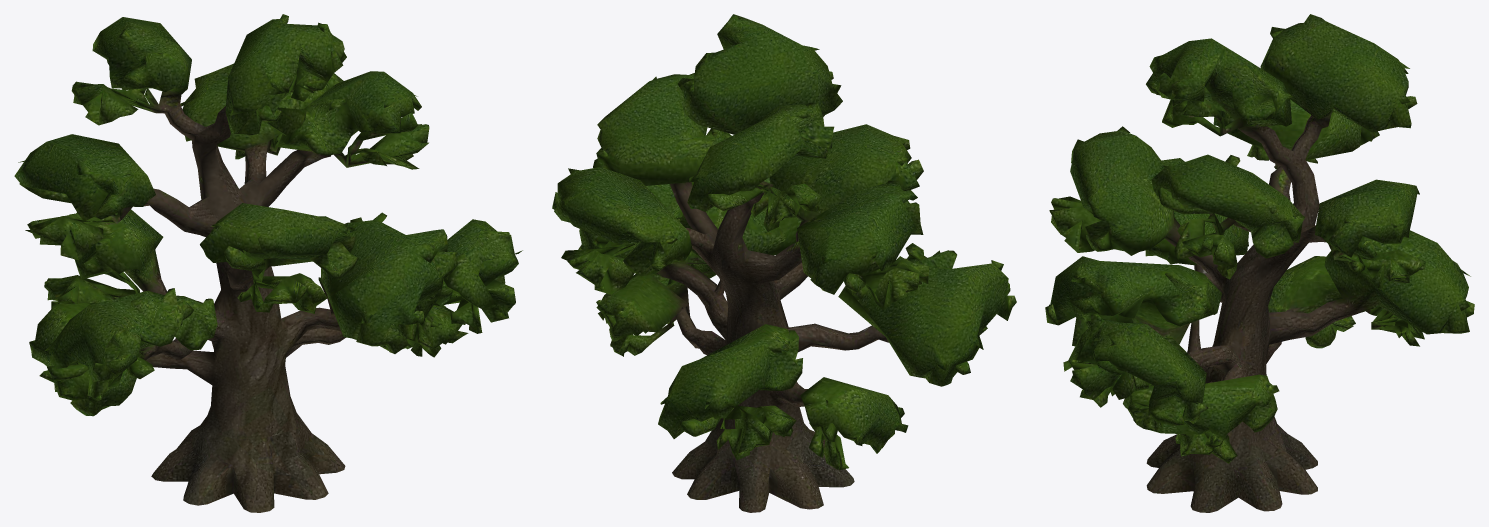
File: selected.fbx
3 views of the same model, side by side, from view 1: azimuth 30°, elevation 25°; view 2: azimuth 150°, elevation 25°; view 3: azimuth 270°, elevation 25° (orthographic). The views are drawn at different scales.
Visible parts, largest first — view 1: tripo_node_baa0e8da-6504-4fe2-be76-f77baf9881e7; view 2: tripo_node_baa0e8da-6504-4fe2-be76-f77baf9881e7; view 3: tripo_node_baa0e8da-6504-4fe2-be76-f77baf9881e7.
Part boxes in pixels (x1,y1,x2,y2): tripo_node_baa0e8da-6504-4fe2-be76-f77baf9881e7: [14, 14, 522, 512]; tripo_node_baa0e8da-6504-4fe2-be76-f77baf9881e7: [552, 14, 1016, 512]; tripo_node_baa0e8da-6504-4fe2-be76-f77baf9881e7: [1045, 14, 1474, 512].
Size of the model in its own units: 0.998 by 0.998 by 0.877.
Materials: 1 (1 with a texture image).
